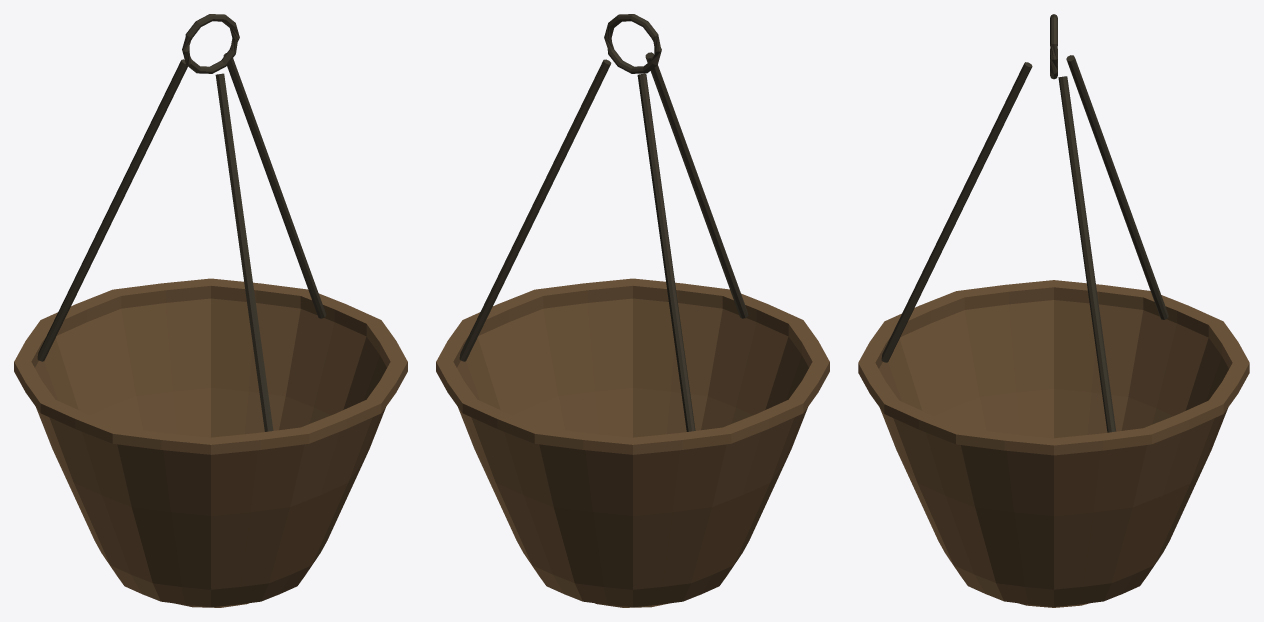
File: vessel-basket.glb
The picture shows the model from 3 angles, left to right: view 1: azimuth 30°, elevation 25°; view 2: azimuth 150°, elevation 25°; view 3: azimuth 270°, elevation 25°; orthographic projection.
Visible parts, largest first — view 1: vessel-basket/complete-inner-outer-shell-with-drainage, vessel-basket/three-way-hanging-cord-3, vessel-basket/three-way-hanging-cord-2, vessel-basket/three-way-hanging-cord-1, vessel-basket/open-hanging-eye; view 2: vessel-basket/complete-inner-outer-shell-with-drainage, vessel-basket/three-way-hanging-cord-2, vessel-basket/three-way-hanging-cord-1, vessel-basket/three-way-hanging-cord-3, vessel-basket/open-hanging-eye; view 3: vessel-basket/complete-inner-outer-shell-with-drainage, vessel-basket/three-way-hanging-cord-1, vessel-basket/three-way-hanging-cord-3, vessel-basket/three-way-hanging-cord-2.
Boxes of the visible parts, x1,y1,x2,y2 form: vessel-basket/complete-inner-outer-shell-with-drainage: (14, 278, 407, 607); vessel-basket/three-way-hanging-cord-3: (215, 73, 273, 431); vessel-basket/three-way-hanging-cord-2: (37, 59, 187, 361); vessel-basket/three-way-hanging-cord-1: (223, 53, 326, 318); vessel-basket/open-hanging-eye: (182, 14, 239, 73); vessel-basket/complete-inner-outer-shell-with-drainage: (436, 278, 829, 607); vessel-basket/three-way-hanging-cord-2: (637, 73, 695, 431); vessel-basket/three-way-hanging-cord-1: (459, 59, 611, 361); vessel-basket/three-way-hanging-cord-3: (645, 52, 748, 318); vessel-basket/open-hanging-eye: (604, 14, 661, 73); vessel-basket/complete-inner-outer-shell-with-drainage: (858, 280, 1249, 606); vessel-basket/three-way-hanging-cord-1: (1058, 76, 1116, 432); vessel-basket/three-way-hanging-cord-3: (881, 62, 1032, 362); vessel-basket/three-way-hanging-cord-2: (1066, 55, 1168, 319).
Bounding box in the file's own units: 0.393 × 0.621 × 0.393.
Materials: 2 (2 with a texture image).
